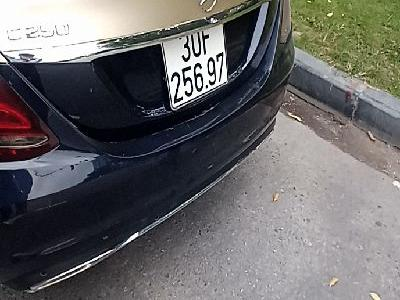car: (160, 23, 229, 111)
